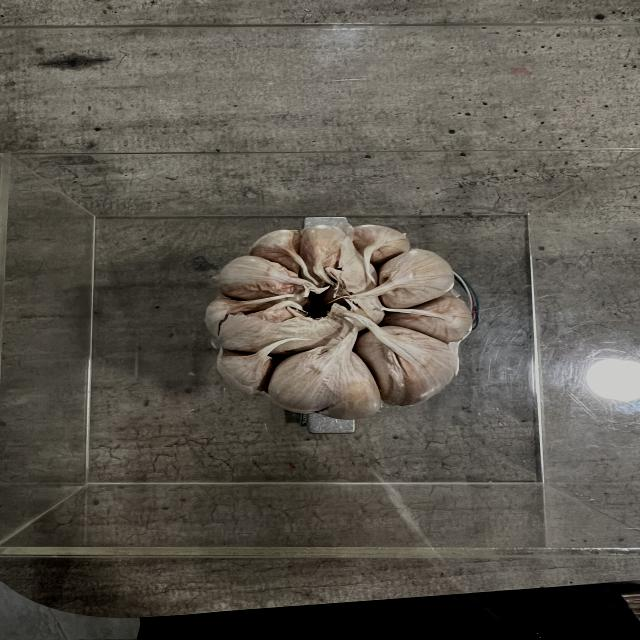garlic: (208, 213, 482, 417)
